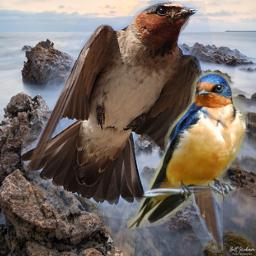Swallow: (21, 1, 223, 253), (127, 72, 248, 230)
